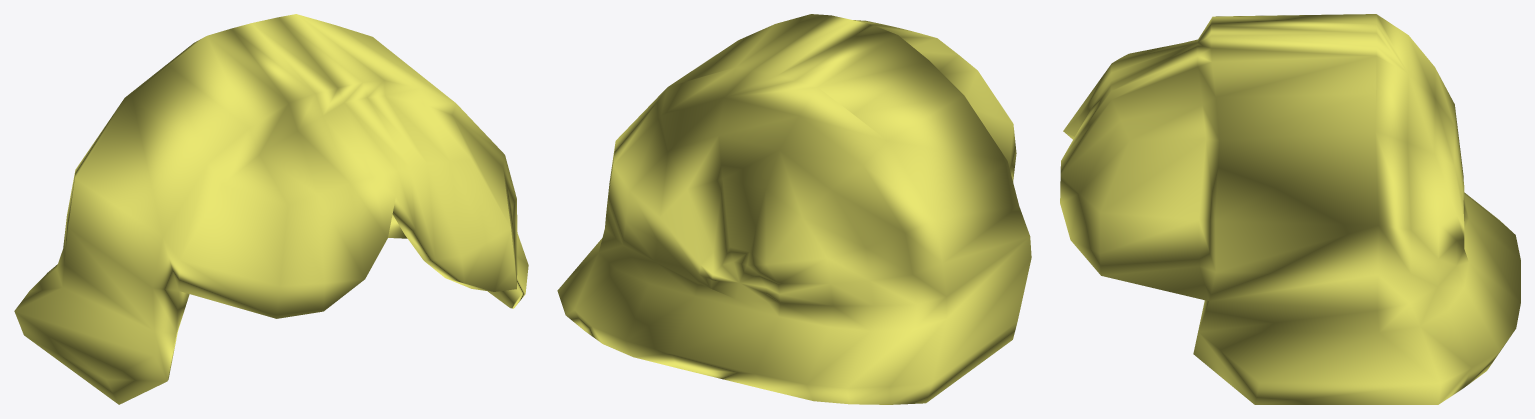
The model's file is Hat_Wig.fbx.
3 views of the same model, side by side, from view 1: azimuth 30°, elevation 25°; view 2: azimuth 150°, elevation 25°; view 3: azimuth 270°, elevation 25° (orthographic). The views are drawn at different scales.
Parts seen in each view (by area): view 1: Wig; view 2: Wig; view 3: Wig.
Part boxes in pixels (x1,y1,x2,y2): Wig: (14,14,528,404); Wig: (557,14,1031,404); Wig: (1060,14,1520,404).
Bounding box in the file's own units: 125 × 83.7 × 126.
